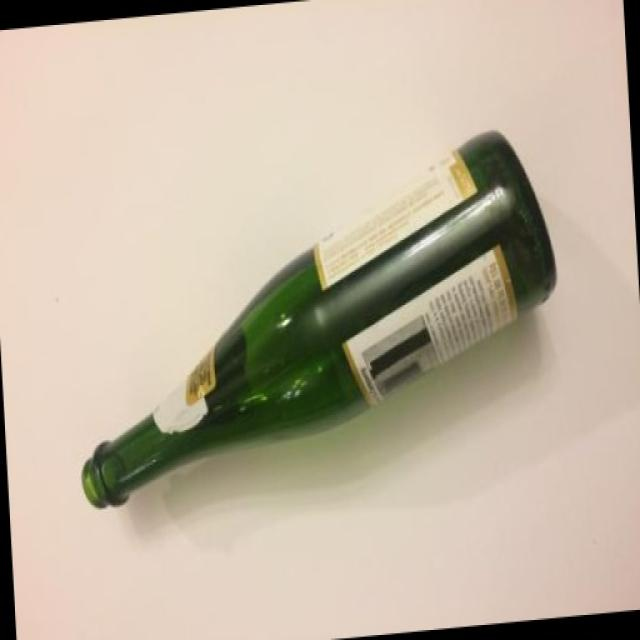vidrio: (59, 70, 597, 540)
